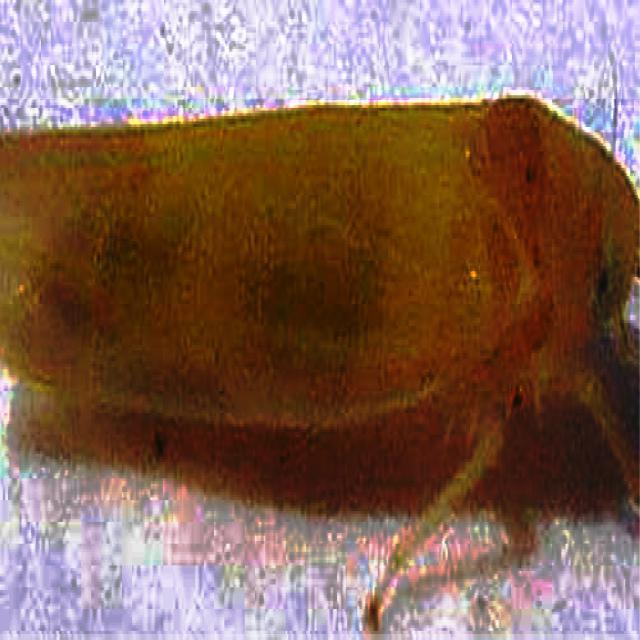green-leafhopper: (0, 99, 639, 634)
